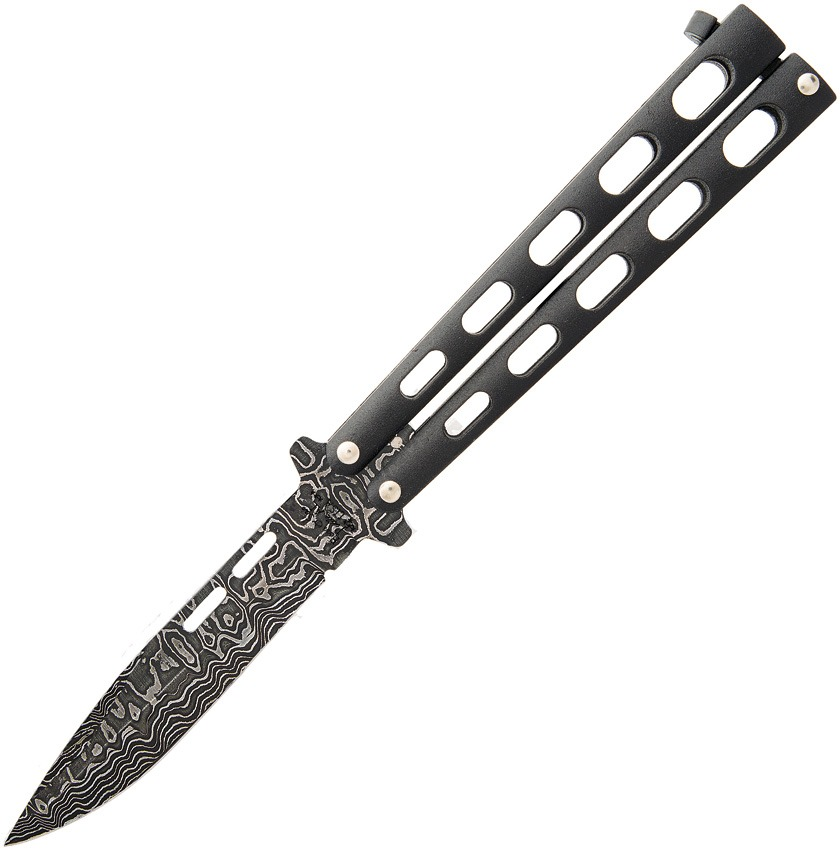knife: (2, 0, 836, 843)
